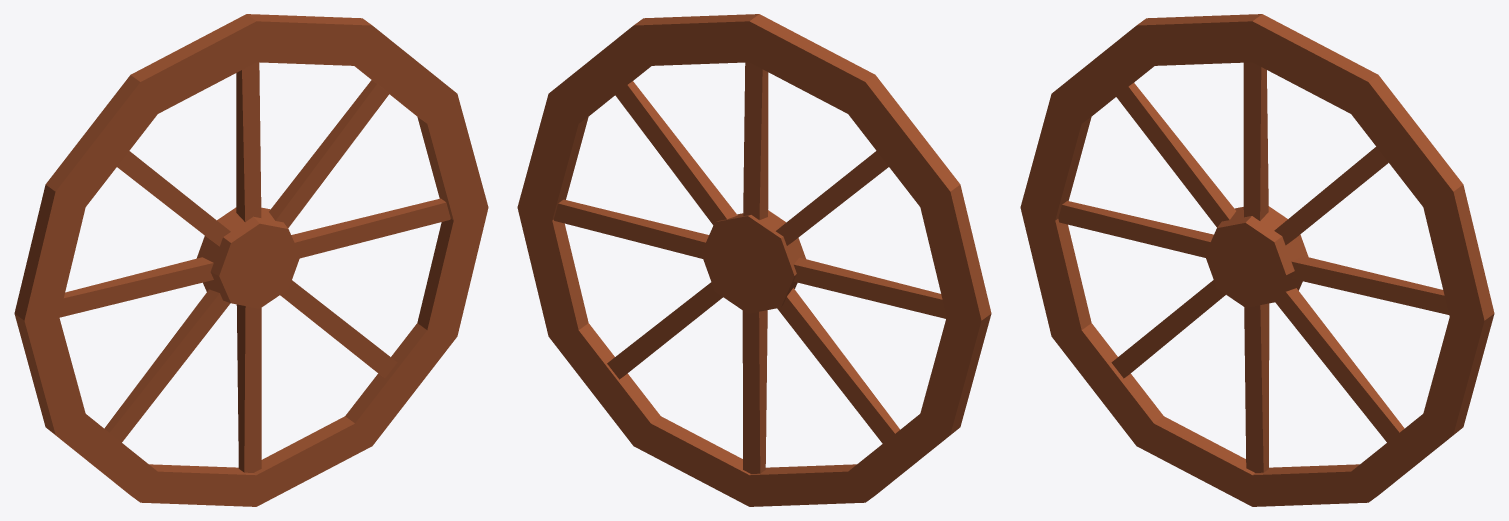
File: Prop_Fantasy_Cart_Wagon_Wheel_Wooden_01.FBX
3 renders of one model, left to right at view 1: azimuth 30°, elevation 25°; view 2: azimuth 150°, elevation 25°; view 3: azimuth 330°, elevation 25°, orthographic.
Visible parts, largest first — view 1: Prop_Fantasy_Cart_Wagon_Wheel_Wooden_01; view 2: Prop_Fantasy_Cart_Wagon_Wheel_Wooden_01; view 3: Prop_Fantasy_Cart_Wagon_Wheel_Wooden_01.
Boxes of the visible parts, <box> form: Prop_Fantasy_Cart_Wagon_Wheel_Wooden_01: <box>14,14,488,506</box>; Prop_Fantasy_Cart_Wagon_Wheel_Wooden_01: <box>517,14,991,506</box>; Prop_Fantasy_Cart_Wagon_Wheel_Wooden_01: <box>1020,14,1494,506</box>.
Size of the model in its own units: 1733 by 1733 by 120.
